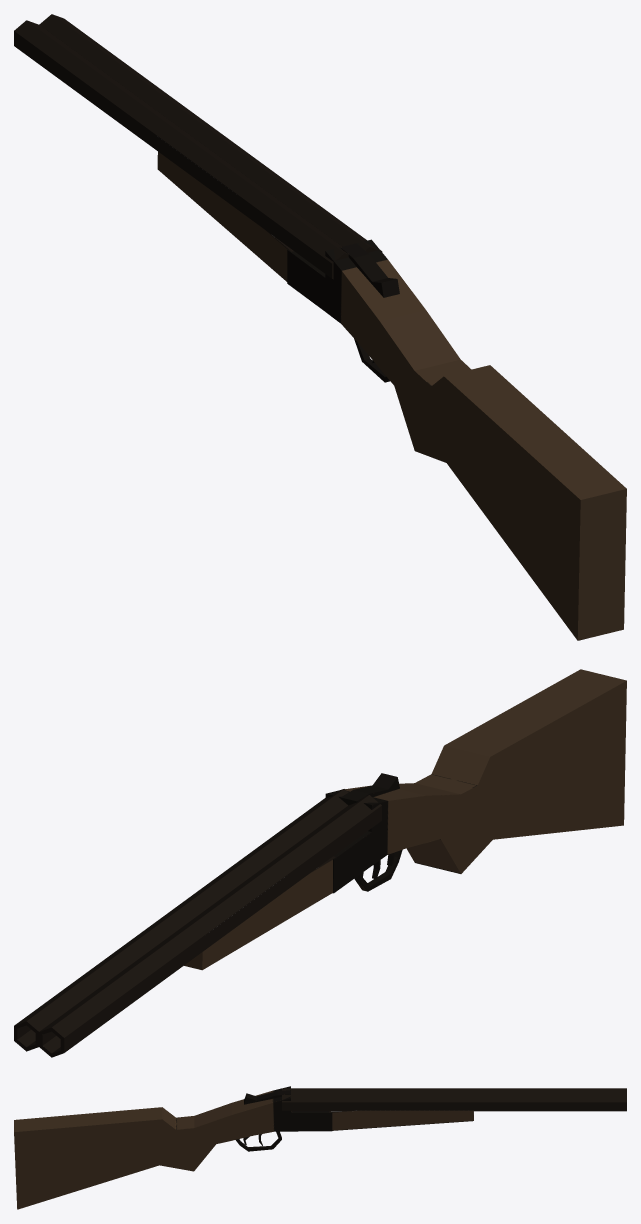
File: DoubleBarrel.fbx
3 renders of one model, top to bottom at view 1: azimuth 30°, elevation 25°; view 2: azimuth 150°, elevation 25°; view 3: azimuth 270°, elevation 25°, orthographic. The views are drawn at different scales.
Visible parts, largest first — view 1: Cube, Cube.001; view 2: Cube, Cube.001; view 3: Cube, Cube.001.
Part boxes in pixels (<box>): Cube: <box>287,239,626,640</box>; Cube.001: <box>14,14,382,281</box>; Cube: <box>325,669,626,893</box>; Cube.001: <box>14,789,381,1057</box>; Cube: <box>14,1086,332,1209</box>; Cube.001: <box>282,1088,626,1130</box>.
Size of the model in its own units: 21.12 by 82.94 by 411.
